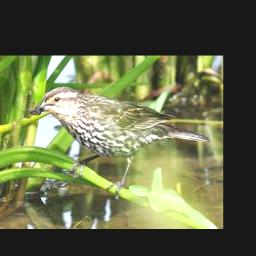Sparrow: (32, 86, 212, 197)
